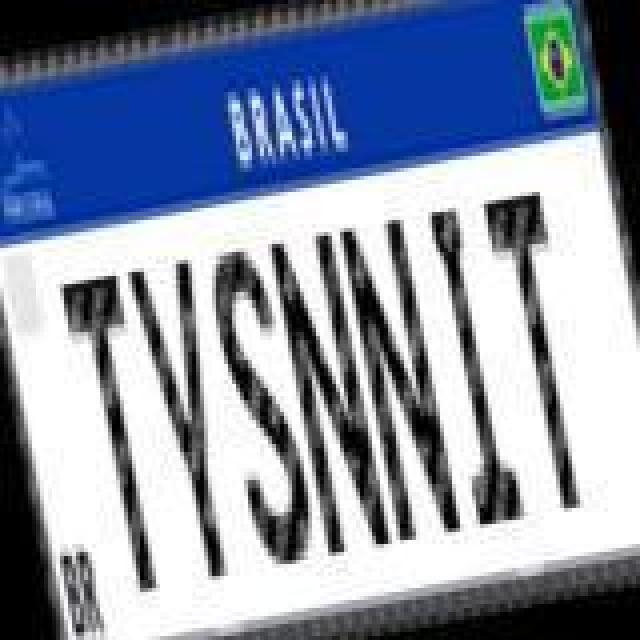I: (416, 202, 528, 534)
N: (334, 210, 466, 550), (264, 224, 392, 560)
S: (198, 242, 322, 574)
T: (478, 186, 602, 518), (60, 266, 180, 598)
Y: (124, 256, 252, 592)
